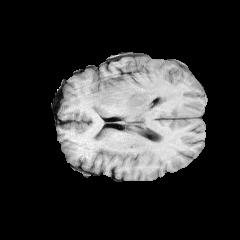glioma: (88, 78, 180, 110)
